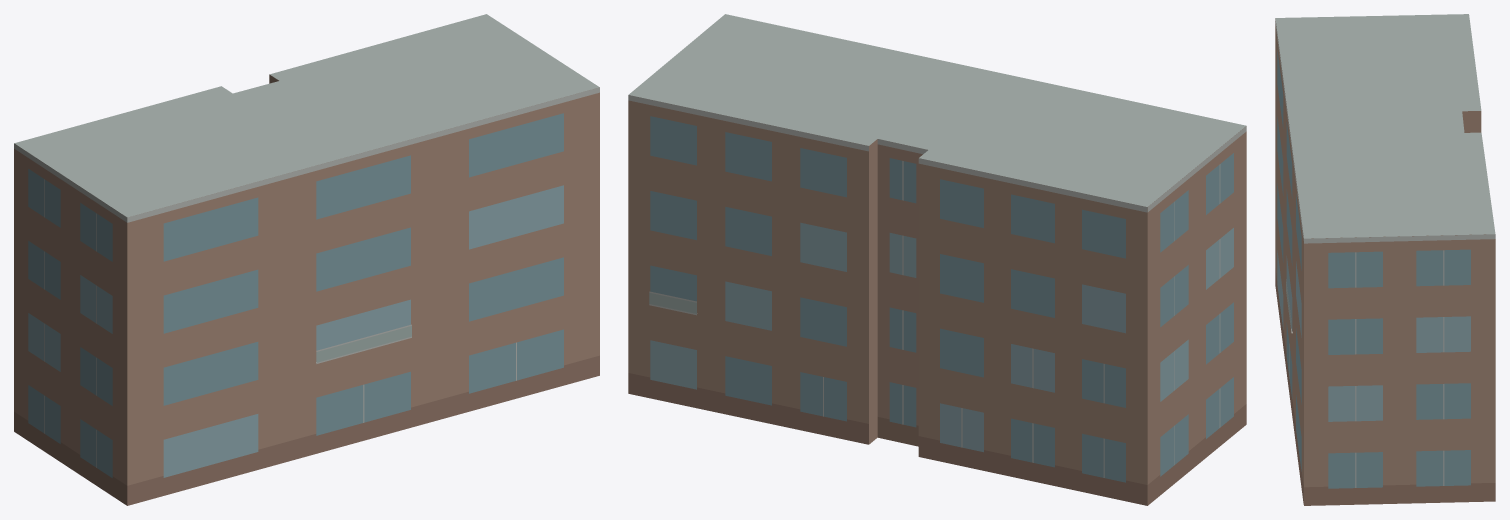
File: survey-upis-32932169.glb
The picture shows the model from 3 angles, left to right: view 1: azimuth 30°, elevation 25°; view 2: azimuth 150°, elevation 25°; view 3: azimuth 270°, elevation 25°; orthographic projection. The views are drawn at different scales.
Visible parts, largest first — view 1: survey-upis-32932169.tmp; view 2: survey-upis-32932169.tmp; view 3: survey-upis-32932169.tmp.
Part boxes in pixels (x1,y1,x2,y2): survey-upis-32932169.tmp: [14, 14, 599, 505]; survey-upis-32932169.tmp: [628, 14, 1246, 505]; survey-upis-32932169.tmp: [1275, 14, 1495, 505].
Bounding box in the file's own units: 23.8 × 13.2 × 9.86.
